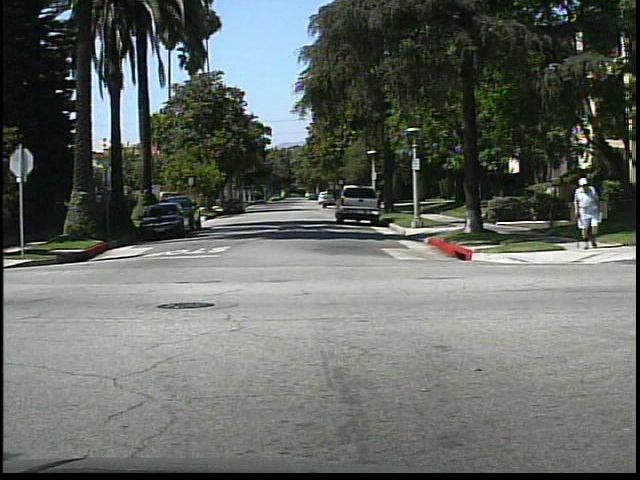person: (571, 173, 604, 251)
